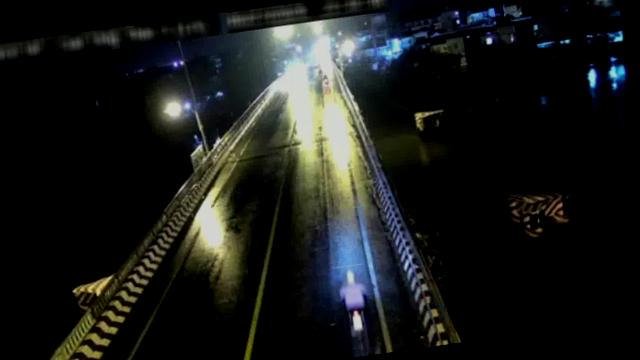Bike: (332, 262, 373, 336)
